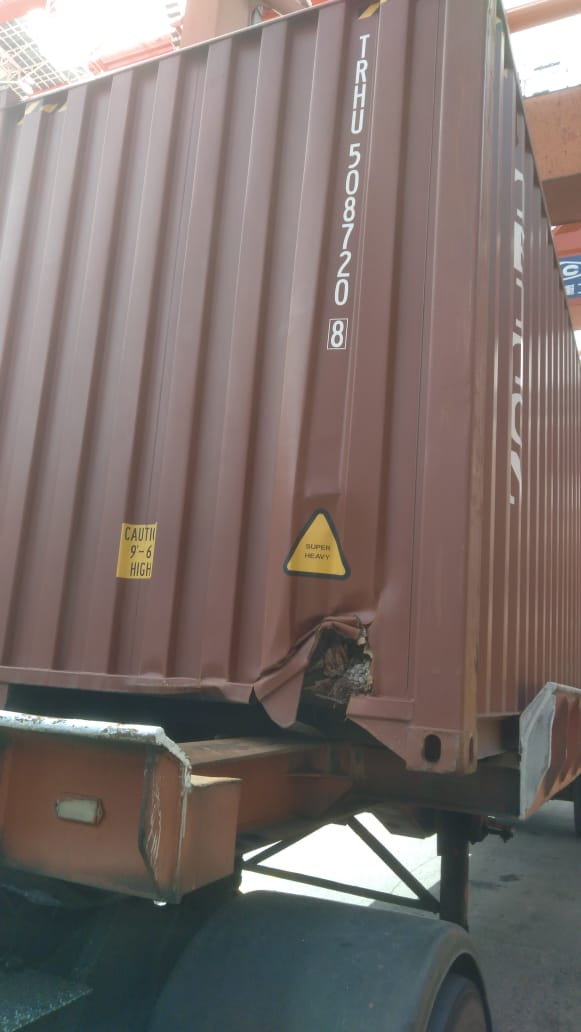front_side: (14, 1, 463, 768)
left_side: (482, 3, 581, 765)
